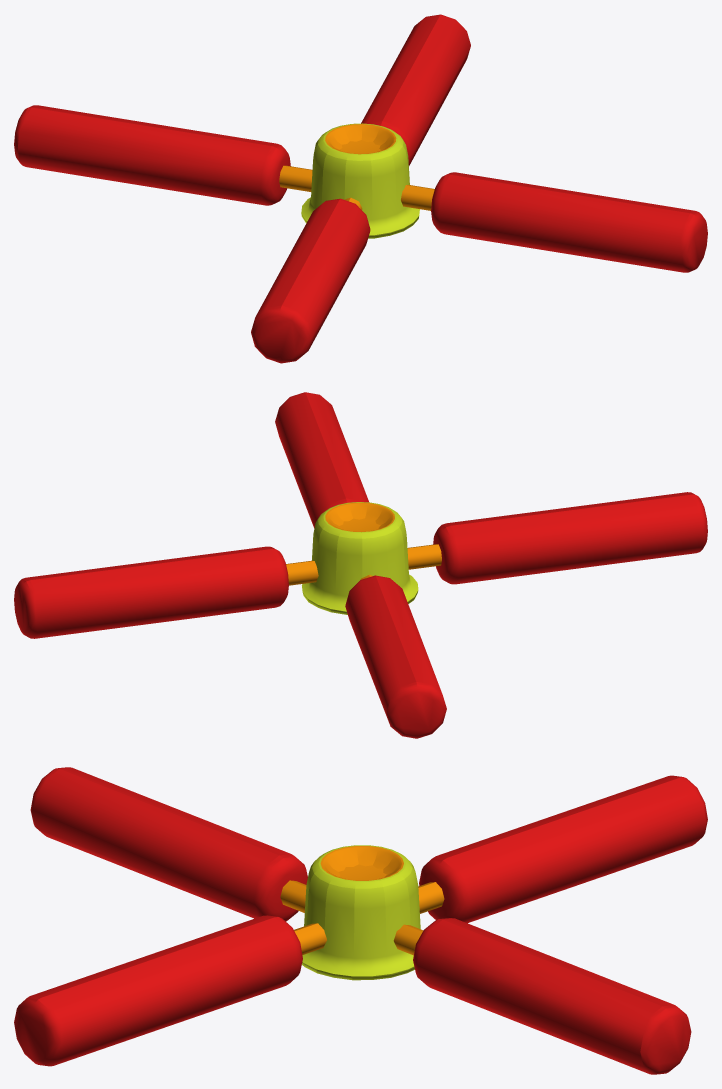
File: Fan Hurdle.fbx
3 renders of one model, top to bottom at view 1: azimuth 30°, elevation 25°; view 2: azimuth 150°, elevation 25°; view 3: azimuth 270°, elevation 25°, orthographic. The views are drawn at different scales.
Parts seen in each view (by area): view 1: Fan Hurdle; view 2: Fan Hurdle; view 3: Fan Hurdle.
Part boxes in pixels (x1,y1,x2,y2): Fan Hurdle: (14, 14, 707, 363); Fan Hurdle: (14, 392, 707, 738); Fan Hurdle: (14, 767, 707, 1074).
Bounding box in the file's own units: 388 × 64.38 × 433.
